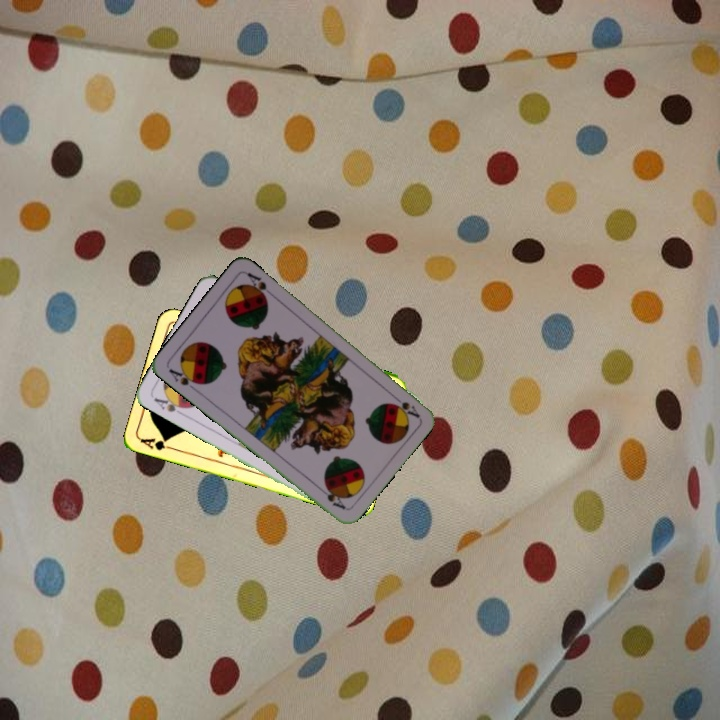GA: (137, 434, 177, 453)
SA: (164, 363, 204, 394), (150, 391, 190, 418), (387, 390, 422, 420)
